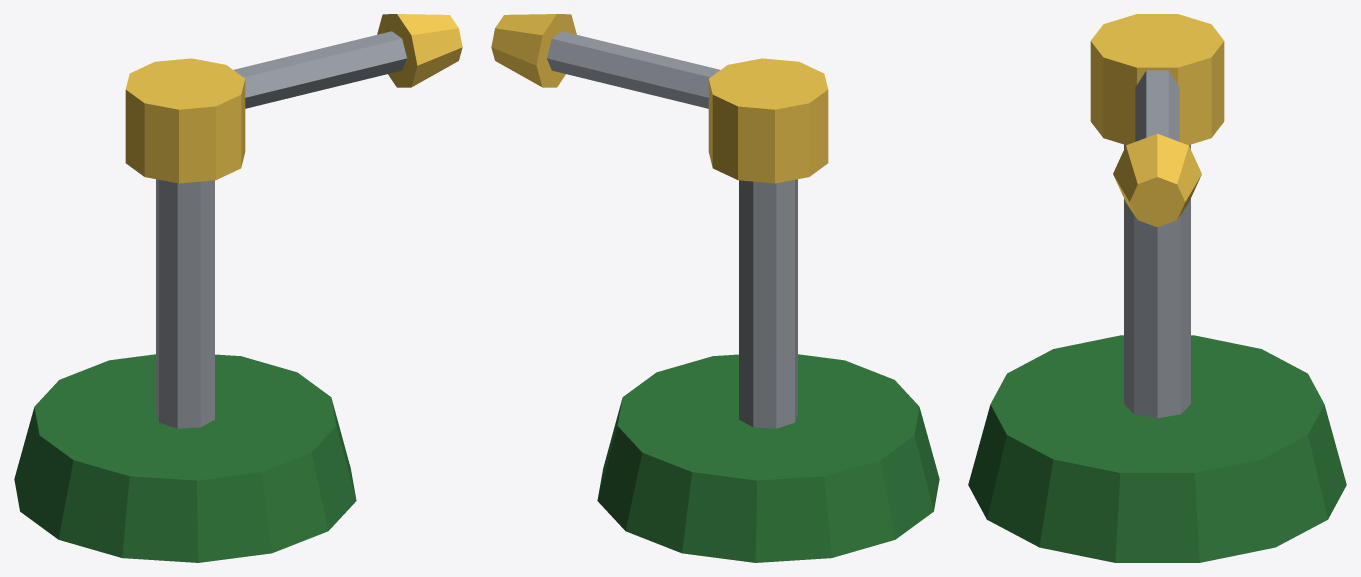
File: nursery_sprinkler.glb
The picture shows the model from 3 angles, left to right: view 1: azimuth 30°, elevation 25°; view 2: azimuth 150°, elevation 25°; view 3: azimuth 270°, elevation 25°; orthographic projection. The views are drawn at different scales.
Parts seen in each view (by area): view 1: base_sprinkler_green, riser_sprinkler_grey, head_sprinkler_yellow, arm_sprinkler_grey, nozzle_sprinkler_yellow; view 2: base_sprinkler_green, riser_sprinkler_grey, head_sprinkler_yellow, arm_sprinkler_grey, nozzle_sprinkler_yellow; view 3: base_sprinkler_green, head_sprinkler_yellow, riser_sprinkler_grey, nozzle_sprinkler_yellow, arm_sprinkler_grey.
Boxes of the visible parts, left/top/right/bottom form: base_sprinkler_green: left=14, top=354, right=356, bottom=562; riser_sprinkler_grey: left=156, top=179, right=214, bottom=428; head_sprinkler_yellow: left=125, top=58, right=245, bottom=183; arm_sprinkler_grey: left=234, top=31, right=407, bottom=108; nozzle_sprinkler_yellow: left=377, top=14, right=462, bottom=87; base_sprinkler_green: left=597, top=354, right=939, bottom=562; riser_sprinkler_grey: left=739, top=179, right=797, bottom=428; head_sprinkler_yellow: left=708, top=58, right=828, bottom=183; arm_sprinkler_grey: left=546, top=31, right=719, bottom=108; nozzle_sprinkler_yellow: left=491, top=14, right=576, bottom=87; base_sprinkler_green: left=968, top=335, right=1346, bottom=562; head_sprinkler_yellow: left=1090, top=14, right=1224, bottom=145; riser_sprinkler_grey: left=1124, top=144, right=1190, bottom=418; nozzle_sprinkler_yellow: left=1113, top=133, right=1201, bottom=227; arm_sprinkler_grey: left=1135, top=70, right=1179, bottom=141.
Bounding box in the file's own units: 0.4657 × 0.46 × 0.34.
